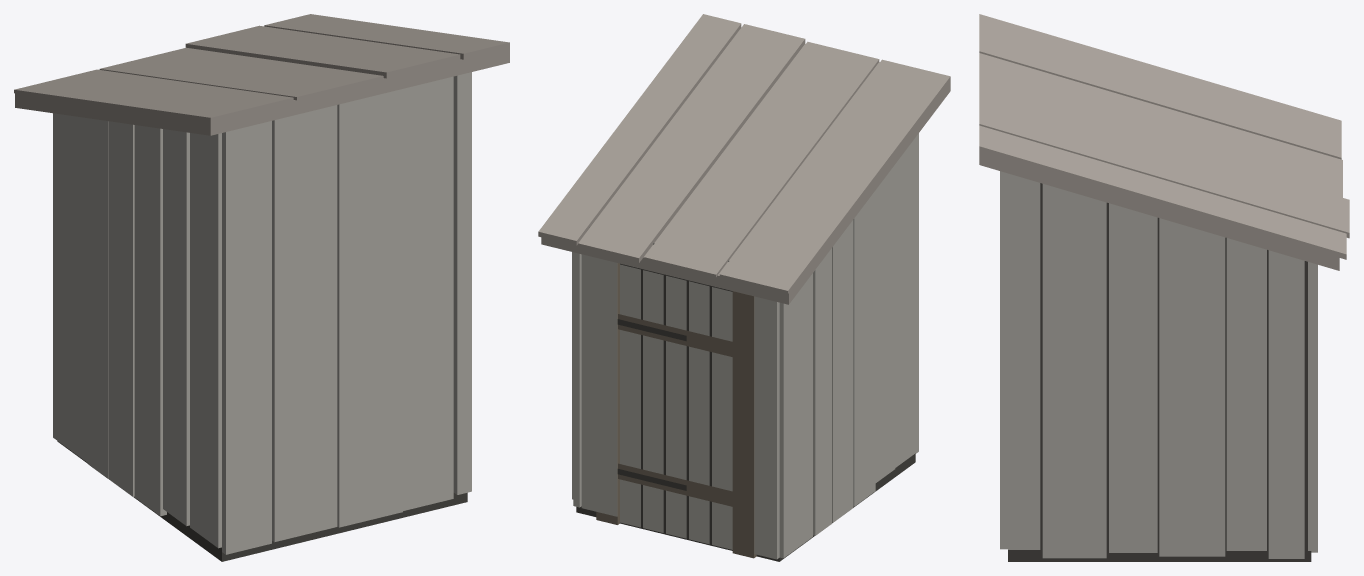
Rendered from recon_1835_blk_indiana_north_wolcott_a3_08__inferred_1835.glb.
3 views of the same model, side by side, from view 1: azimuth 30°, elevation 25°; view 2: azimuth 150°, elevation 25°; view 3: azimuth 270°, elevation 25° (orthographic). The views are drawn at different scales.
Parts seen in each view (by area): view 1: recon_1835_blk_indiana_north_wolcott_a3_08__inferred_1835; view 2: recon_1835_blk_indiana_north_wolcott_a3_08__inferred_1835; view 3: recon_1835_blk_indiana_north_wolcott_a3_08__inferred_1835.
Part boxes in pixels (bbox=[...]): recon_1835_blk_indiana_north_wolcott_a3_08__inferred_1835: bbox=[14, 14, 509, 561]; recon_1835_blk_indiana_north_wolcott_a3_08__inferred_1835: bbox=[538, 14, 950, 561]; recon_1835_blk_indiana_north_wolcott_a3_08__inferred_1835: bbox=[979, 14, 1349, 561].
Size of the model in its own units: 1.85 by 2.75 by 2.15.
